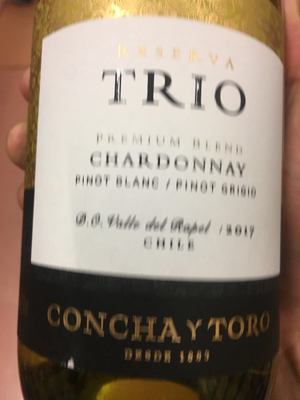trio chardonnay: (16, 8, 287, 400)
